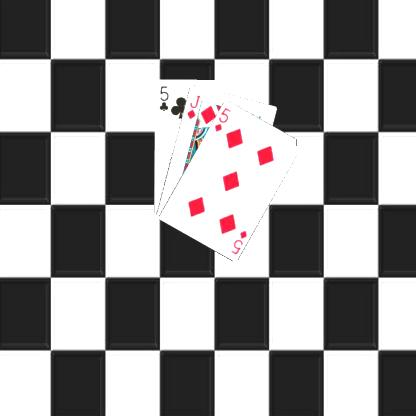5C: (157, 83, 169, 112)
5D: (228, 227, 249, 256), (212, 104, 232, 133)
JD: (184, 92, 201, 121)
